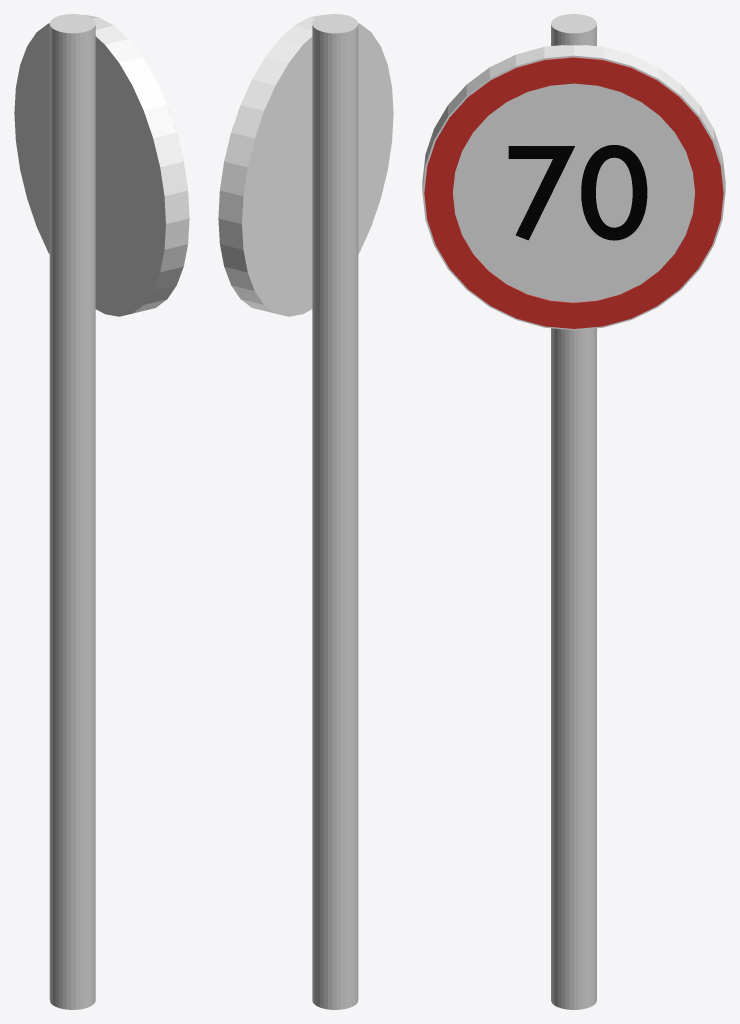
File: SignSpeedLimit70.fbx
3 renders of one model, left to right at view 1: azimuth 30°, elevation 25°; view 2: azimuth 150°, elevation 25°; view 3: azimuth 270°, elevation 25°, orthographic.
Parts seen in each view (by area): view 1: Cylinder.010, SignCircle.010; view 2: Cylinder.010, SignCircle.010; view 3: SignCircle.010, Cylinder.010, SignCircle.011, TextStop.006.
Part boxes in pixels (x1,y1,x2,y2): Cylinder.010: [49, 14, 95, 1009]; SignCircle.010: [14, 15, 189, 316]; Cylinder.010: [312, 14, 358, 1009]; SignCircle.010: [218, 15, 393, 316]; SignCircle.010: [422, 45, 725, 330]; Cylinder.010: [551, 14, 596, 1009]; SignCircle.011: [424, 57, 723, 328]; TextStop.006: [508, 145, 647, 240].
Bounding box in the file's own units: 111 × 1671 × 470.
